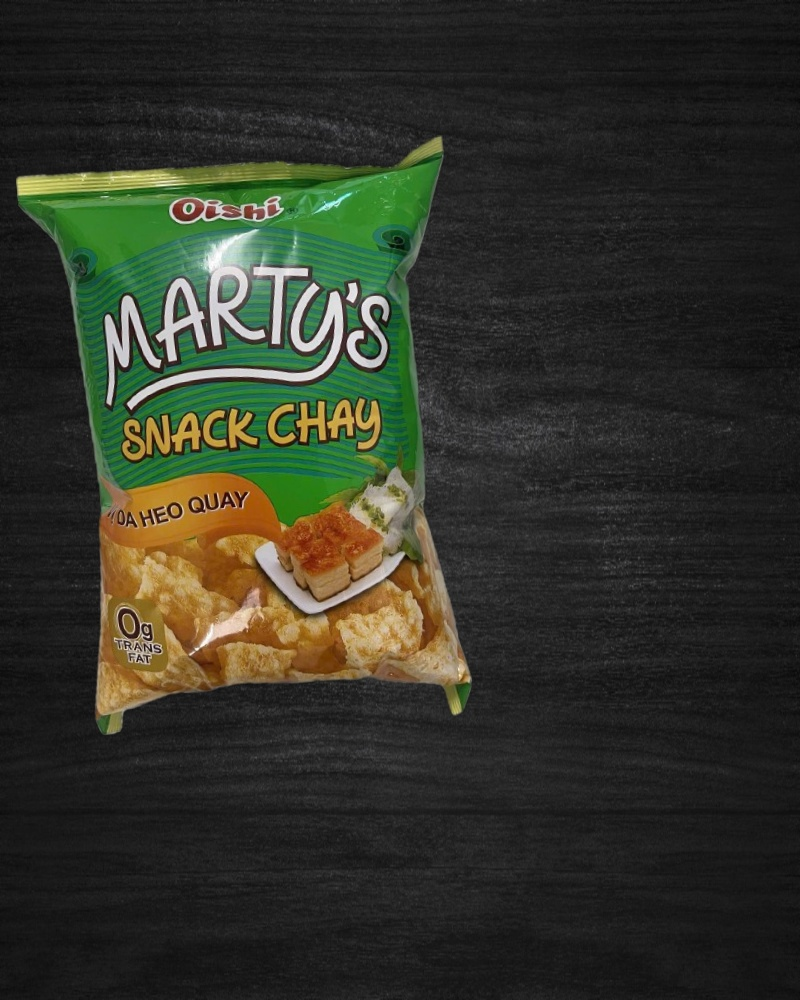Snack chay: (16, 135, 494, 751)
